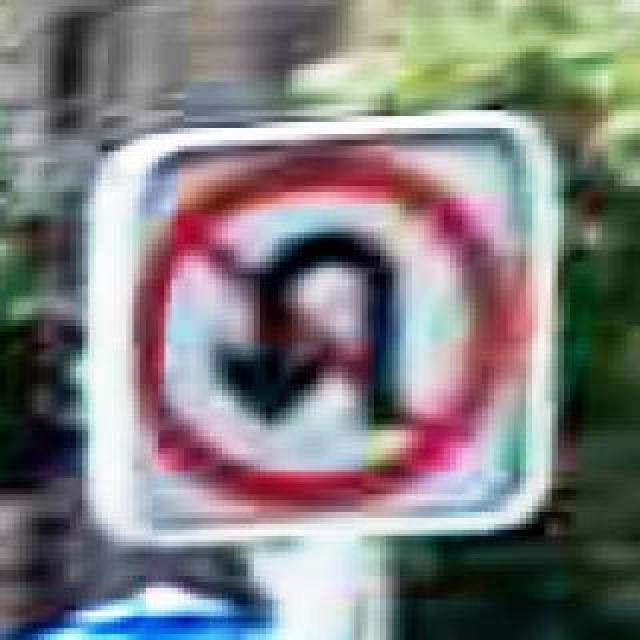no u turn: (134, 140, 514, 506)
